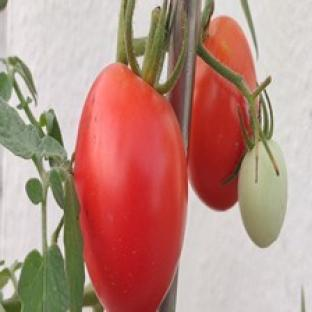Tomato: (74, 65, 188, 311), (189, 58, 249, 210), (239, 141, 286, 247)
